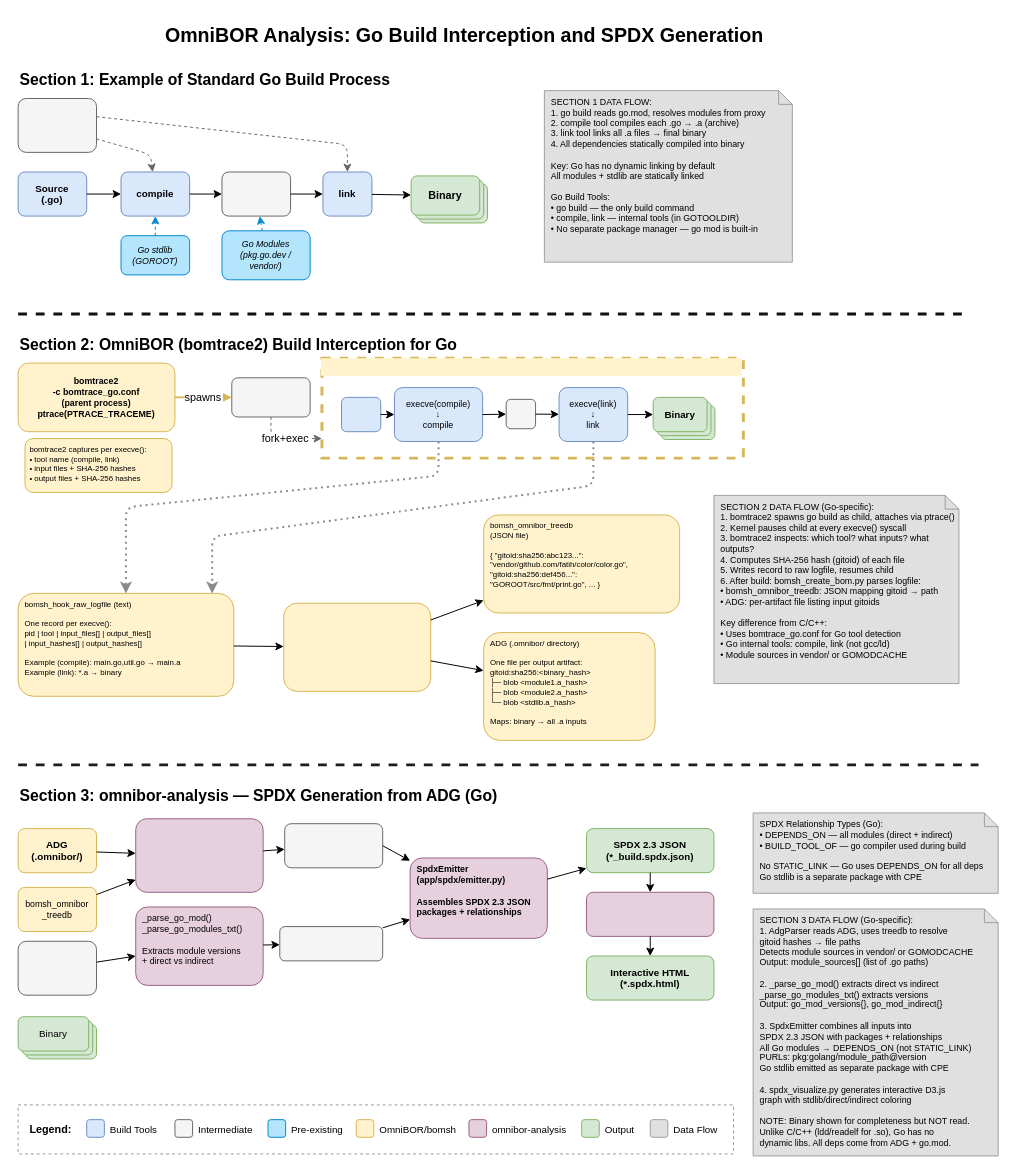
Some shapes in this 1015 by 1173 pixel diagram are drawn without their labels. Each missing label, with the centre of its shape:
.a: point (520, 413)
.a files: point (256, 193)
.go: point (361, 414)
AdgParser (app/spdx/parser.py) Reads ADG, resolves gitoids → file paths: point (199, 855)
bomsh_create_bom.py (Python script) Parses raw logfile, builds dependency graph: point (357, 646)
bomtrace2 intercepts each execve() syscall via ptrace(): point (530, 366)
go build (child): point (270, 397)
go build (compiler + linker): point (57, 125)
go.mod vendor/ modules.txt: point (57, 967)
go_mod_versions{} go_mod_indirect{}: point (331, 943)
module_sources[] (.go paths from vendor/ or cache): point (333, 845)
spdx_visualize.py (D3.js generator): point (650, 913)
